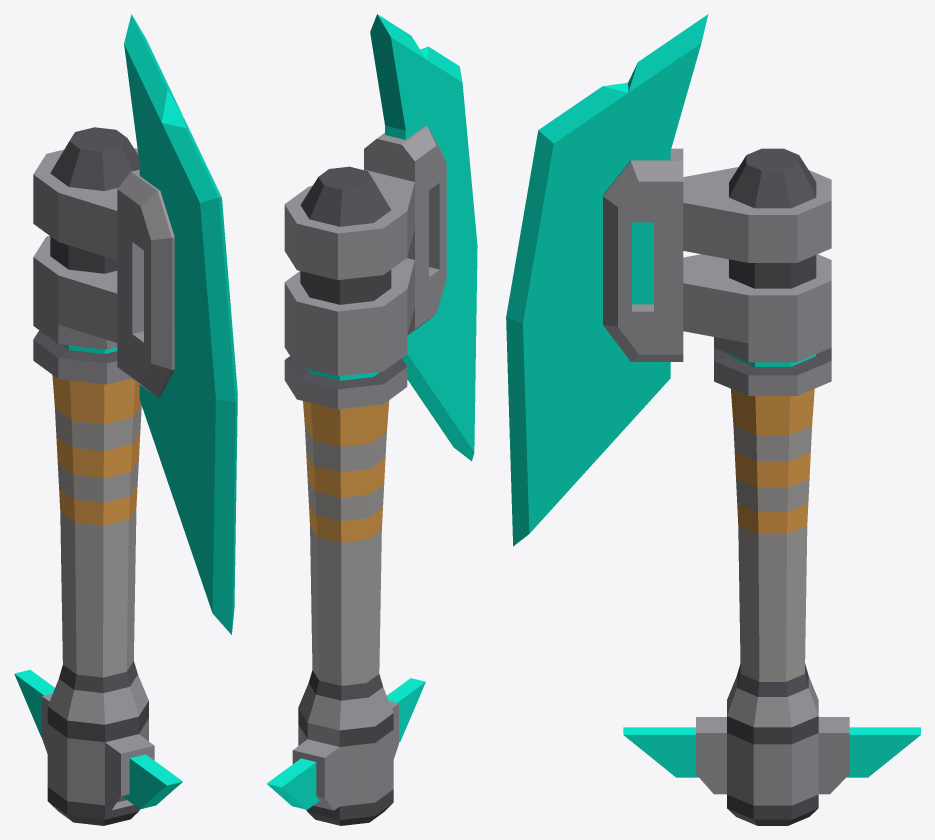
Rendered from worlds_SM_Wep_SmallAxe_01.gltf.
3 views of the same model, side by side, from view 1: azimuth 30°, elevation 25°; view 2: azimuth 150°, elevation 25°; view 3: azimuth 270°, elevation 25° (orthographic). The views are drawn at different scales.
Parts seen in each view (by area): view 1: SM_Wep_SmallAxe_01; view 2: SM_Wep_SmallAxe_01; view 3: SM_Wep_SmallAxe_01.
Part boxes in pixels (x1,y1,x2,y2): SM_Wep_SmallAxe_01: (14,14,237,825); SM_Wep_SmallAxe_01: (266,14,477,825); SM_Wep_SmallAxe_01: (506,14,920,825).
Bounding box in the file's own units: 0.0872 × 0.6505 × 0.307.
1 material, 1 textured.
